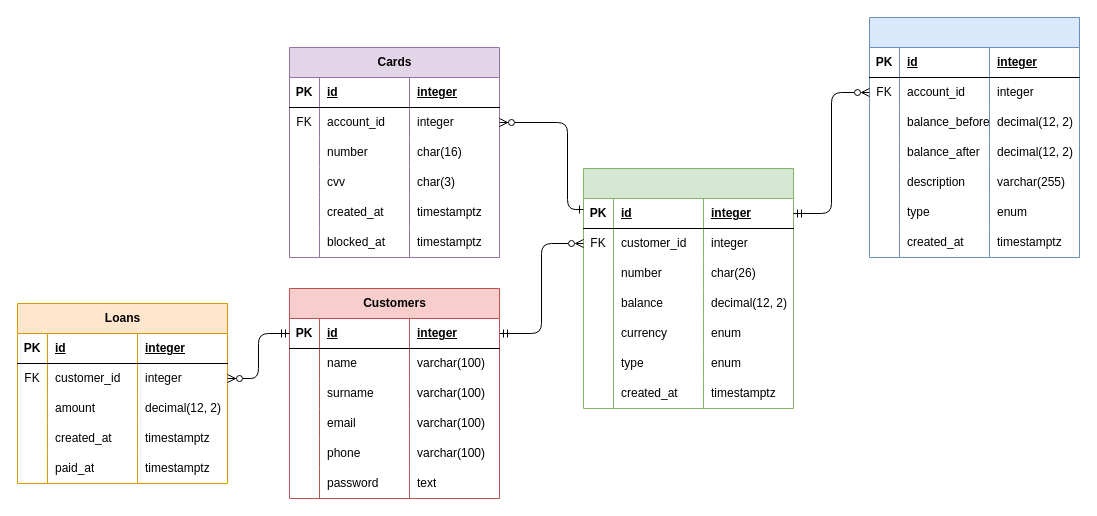
This 1097x516 diagram has some shape labels left out. The box of each missing label's shape, as (x1, y1, x2, y2) in pixels:
Accounts: (582, 168, 794, 408)
Transactions: (868, 16, 1080, 258)
